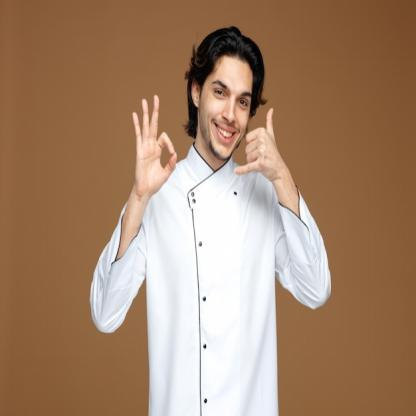ok: (132, 92, 178, 204)
